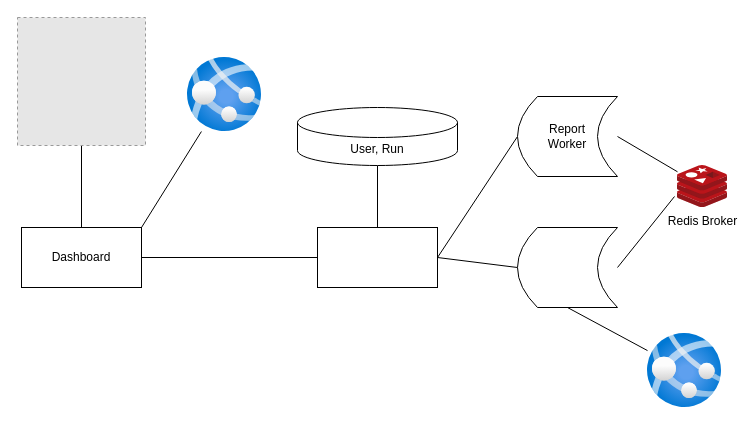
Image size: 754x425. Some labels were removed from this diagram. Grey dashed boxes stand in for pictures. The box of each missing label's shape, as (x1, y1, x2, y2) in pixels:
Data Service: (316, 226, 438, 288)
Strava Worker: (516, 226, 618, 308)
